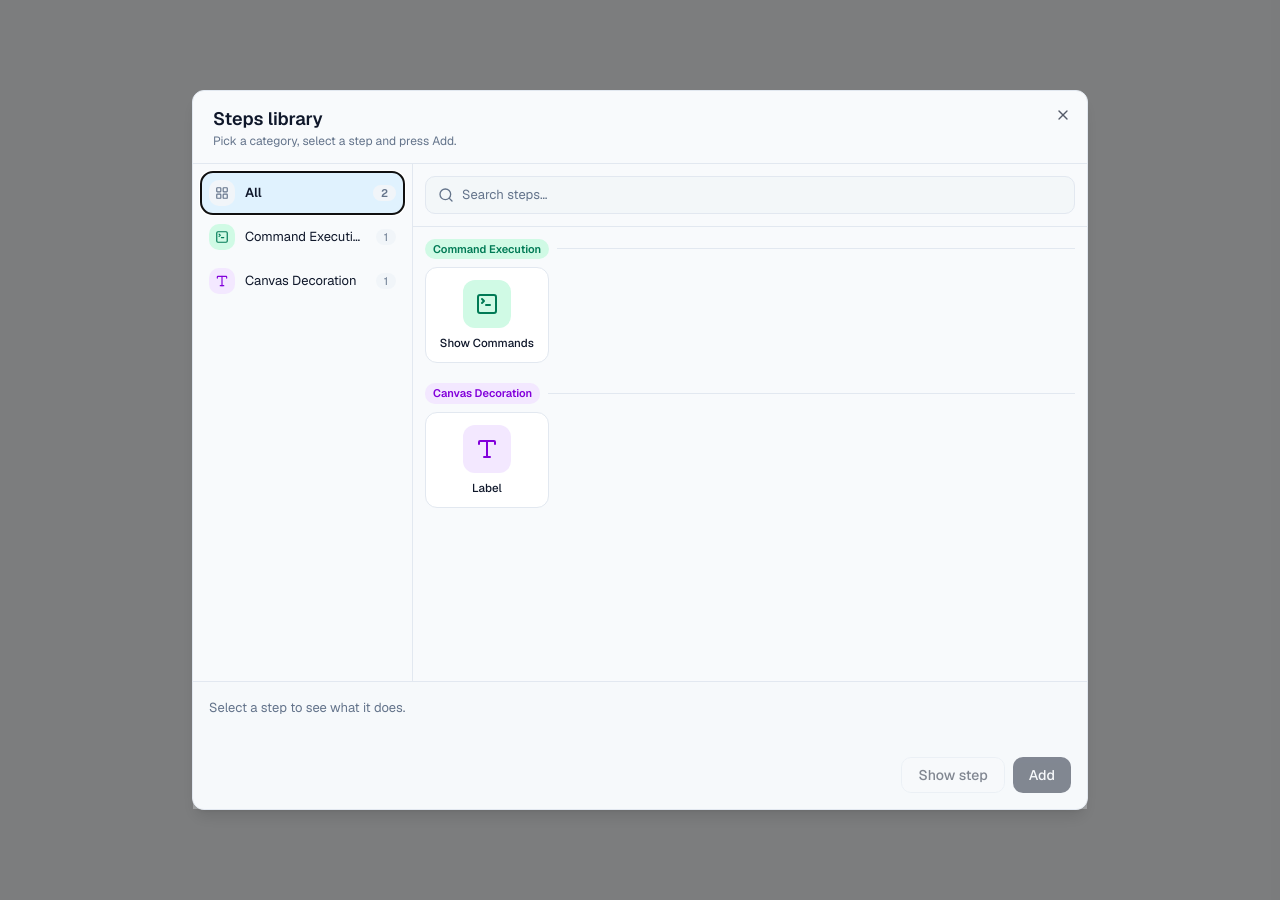
it: StepLibraryDialog › filters by category, hides unconfigured sources, and shows the description of the selected step
This screenshot has width=1280, height=900.
Click the 1st text "Command Execution".
click(305, 237)  # box [245, 227, 366, 247]
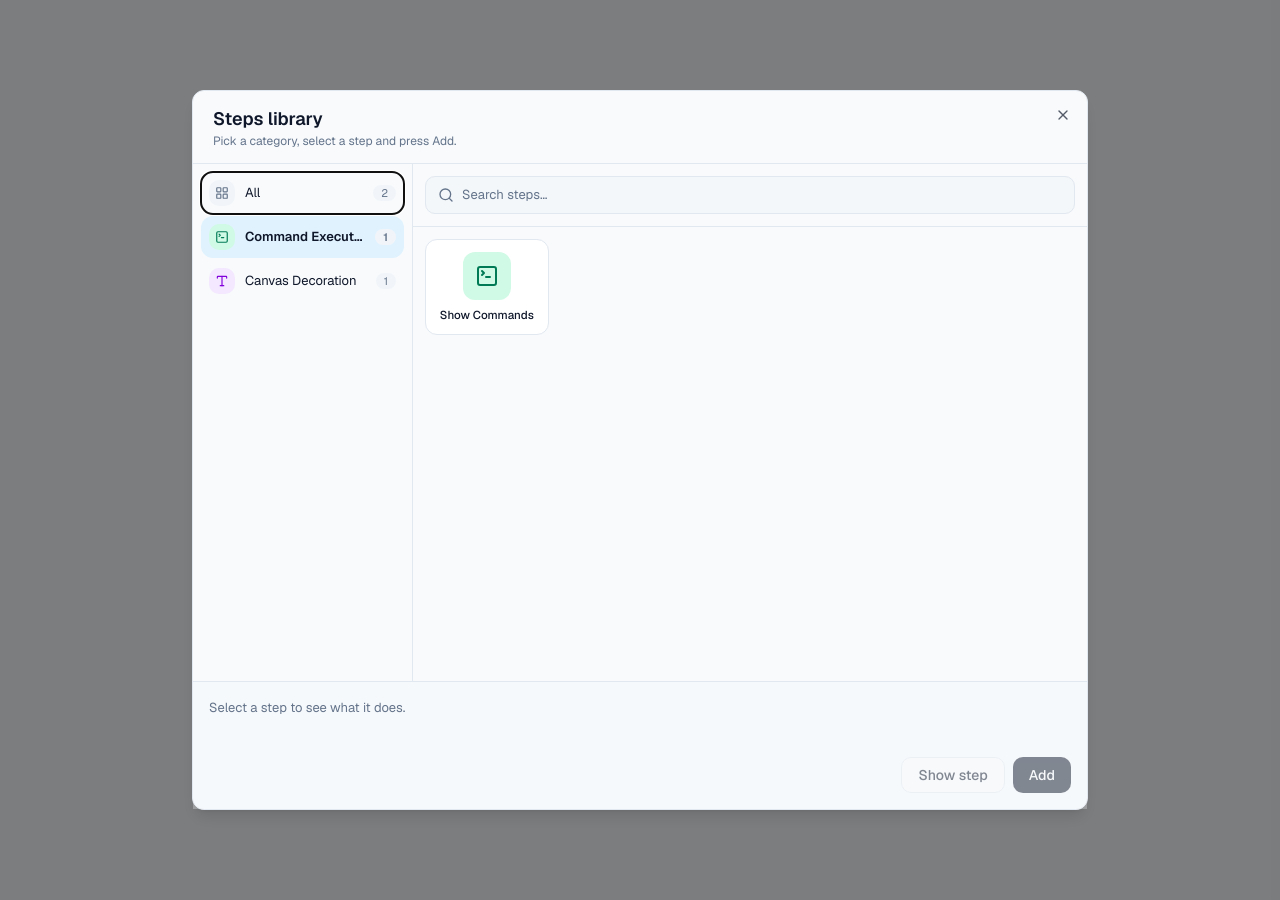
Expected: the button "Add" is disabled, [1013, 757, 1071, 793]
Now the button "Label" is gone
Click the button "Show Commands".
click(487, 287)  # box [425, 238, 549, 335]
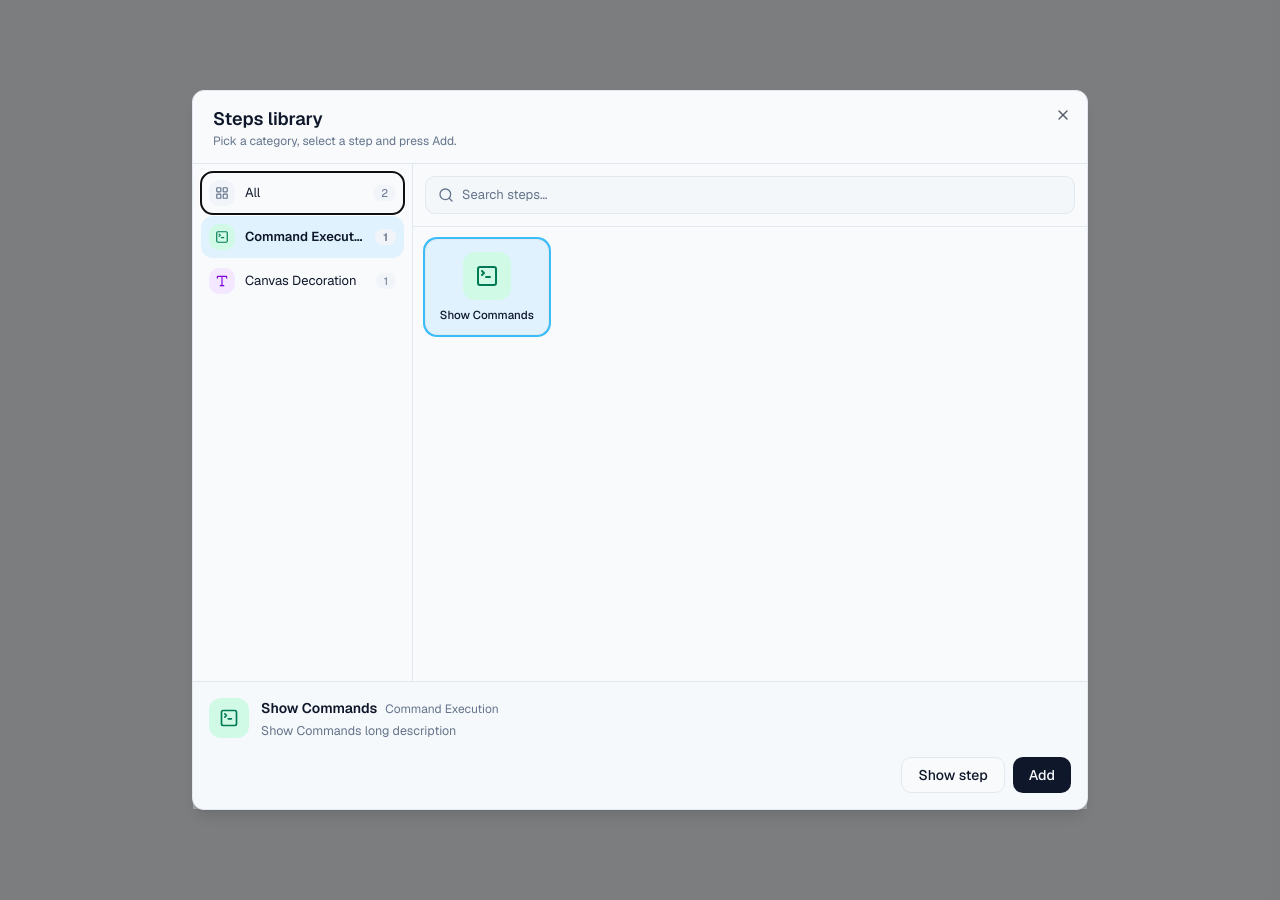
Now the text "Show Commands long description" is shown, box [261, 722, 456, 739]
Now the button "Add" is enabled, box [1013, 757, 1071, 793]
